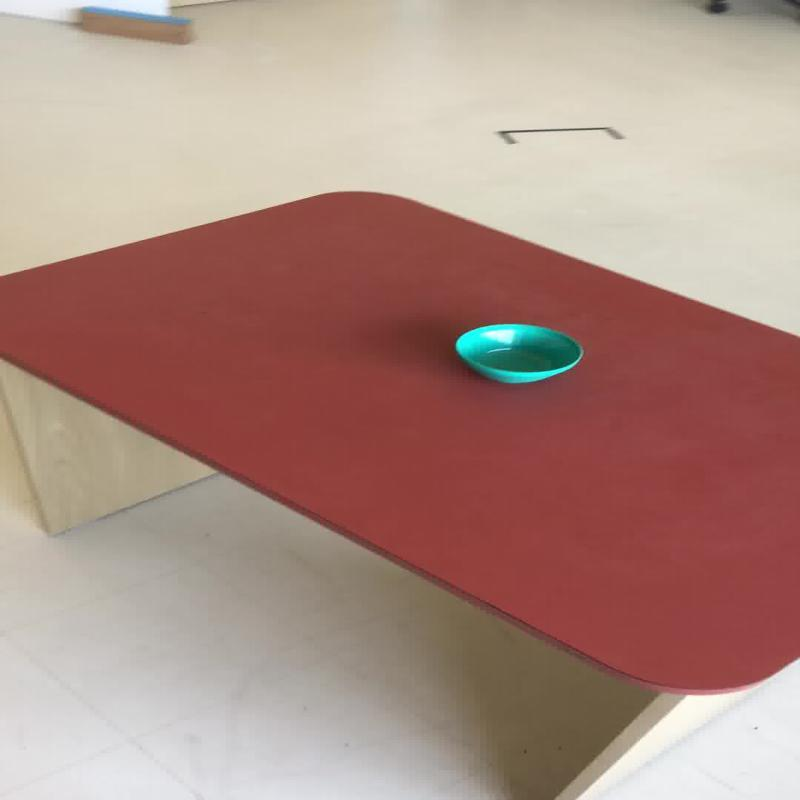bowl: (452, 322, 584, 384)
